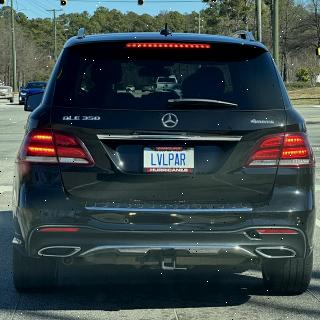license: (142, 146, 197, 175)
